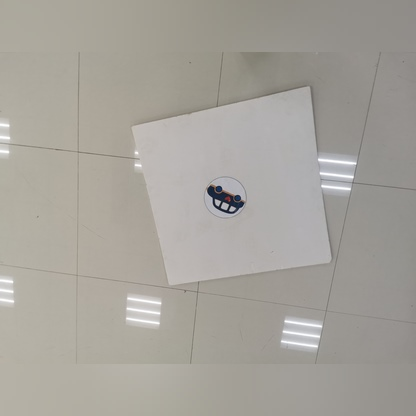car: (203, 170, 248, 224)
